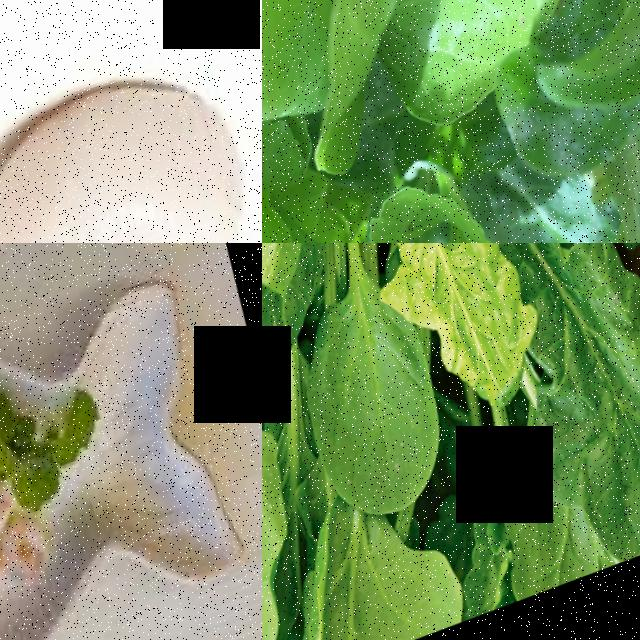sea scallops: (0, 48, 262, 243)
shrimp: (0, 513, 68, 599)
spinach: (281, 279, 478, 538), (507, 243, 640, 581), (296, 0, 595, 117), (404, 243, 556, 413), (262, 499, 322, 640), (595, 137, 640, 243)
